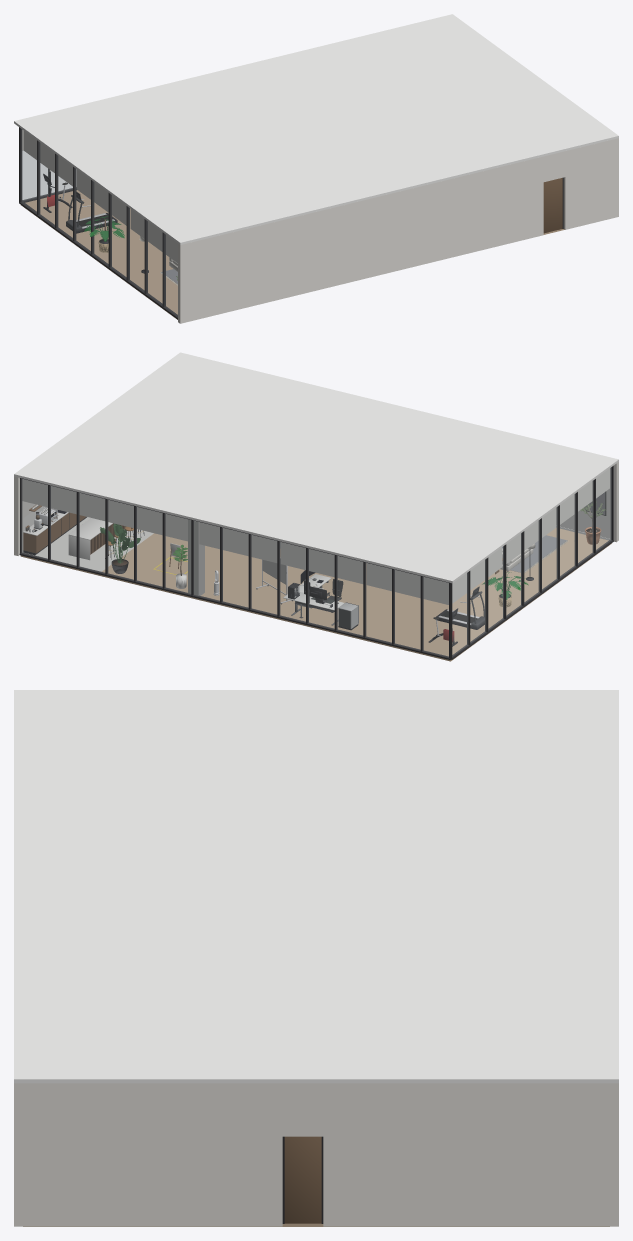
Rendered from office.glb.
The picture shows the model from 3 angles, top to bottom: view 1: azimuth 30°, elevation 25°; view 2: azimuth 150°, elevation 25°; view 3: azimuth 270°, elevation 25°; orthographic projection. The views are drawn at different scales.
Visible parts, largest first — view 1: CEIL, WAL_south_a, GLS_west_glass, FLR_main_top, WAL_south_b, GLS_west_mullions, DOOR_leaf, GLS_north_glass, BLINDF_w2, BLINDF_w1, BLINDF_w3, GLS_west_sill (+1 smaller); view 2: CEIL, GLS_north_glass, FLR_main_top, GLS_west_glass, GLS_north_mullions, GLS_west_mullions, BLINDF_n5, BLINDF_n2, BLINDF_n1, BLINDF_n4, BLINDF_n3, GLS_north_sill (+14 smaller); view 3: CEIL, WAL_east_a, WAL_east_b, DOOR_restroom_leaf, WAL_east_head.
Part boxes in pixels (x1,y1,x2,y2): CEIL: (14, 14, 618, 244); WAL_south_a: (178, 156, 543, 323); GLS_west_glass: (22, 130, 177, 315); FLR_main_top: (25, 190, 177, 314); WAL_south_b: (563, 139, 614, 229); GLS_west_mullions: (19, 127, 165, 306); DOOR_leaf: (543, 178, 562, 233); GLS_north_glass: (23, 151, 72, 200); BLINDF_w2: (76, 169, 126, 225); BLINDF_w1: (23, 131, 72, 186); BLINDF_w3: (130, 209, 177, 263); GLS_west_sill: (19, 201, 177, 319); CEIL: (14, 352, 618, 583); GLS_north_glass: (22, 479, 448, 656); FLR_main_top: (102, 527, 608, 656); GLS_west_glass: (452, 467, 611, 655); GLS_north_mullions: (20, 478, 450, 659); GLS_west_mullions: (449, 466, 613, 659); BLINDF_n5: (22, 479, 105, 520); BLINDF_n2: (280, 542, 363, 583); BLINDF_n1: (366, 563, 448, 604); BLINDF_n4: (108, 500, 187, 541); BLINDF_n3: (199, 522, 277, 562); GLS_north_sill: (19, 552, 449, 659); CEIL: (14, 690, 618, 1083); WAL_east_a: (323, 1083, 618, 1226); WAL_east_b: (14, 1083, 282, 1226); DOOR_restroom_leaf: (284, 1136, 321, 1223); WAL_east_head: (282, 1083, 323, 1136).
Size of the model in its own units: 20.4 by 3.7 by 13.4.
